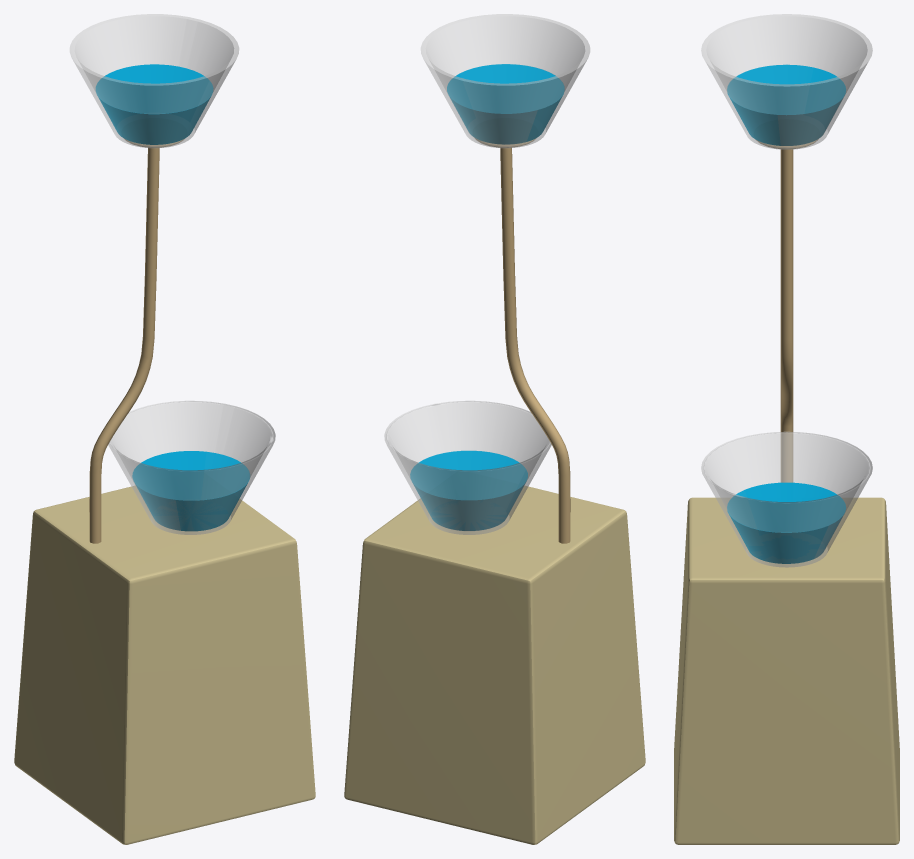
Rendered from klepsidra.fbx.
3 renders of one model, left to right at view 1: azimuth 30°, elevation 25°; view 2: azimuth 150°, elevation 25°; view 3: azimuth 270°, elevation 25°, orthographic.
Parts seen in each view (by area): view 1: klepsydra_base, klepsydra_top_container, klepsydra_bottom_container, klepsydra_top_water, klepsydra_bottom_water, klepsydra:pCylinder5; view 2: klepsydra_base, klepsydra_top_container, klepsydra_bottom_container, klepsydra_bottom_water, klepsydra_top_water, klepsydra:pCylinder5; view 3: klepsydra_base, klepsydra_top_container, klepsydra_bottom_container, klepsydra_bottom_water, klepsydra_top_water, klepsydra:pCylinder5.
Part boxes in pixels (bbox=[...]): klepsydra_base: bbox=[14, 486, 315, 844]; klepsydra_top_container: bbox=[69, 14, 239, 148]; klepsydra_bottom_container: bbox=[108, 400, 275, 534]; klepsydra_top_water: bbox=[96, 64, 213, 144]; klepsydra_bottom_water: bbox=[132, 451, 249, 531]; klepsydra:pCylinder5: bbox=[89, 138, 183, 543]; klepsydra_base: bbox=[344, 486, 645, 844]; klepsydra_top_container: bbox=[420, 14, 590, 148]; klepsydra_bottom_container: bbox=[384, 400, 551, 534]; klepsydra_bottom_water: bbox=[410, 450, 527, 530]; klepsydra_top_water: bbox=[447, 64, 564, 144]; klepsydra:pCylinder5: bbox=[475, 138, 570, 543]; klepsydra_base: bbox=[674, 497, 899, 844]; klepsydra_top_container: bbox=[701, 14, 872, 149]; klepsydra_bottom_container: bbox=[701, 431, 872, 567]; klepsydra_bottom_water: bbox=[727, 482, 845, 563]; klepsydra_top_water: bbox=[727, 64, 845, 145]; klepsydra:pCylinder5: bbox=[756, 139, 818, 482].
Bounding box in the file's own units: 38.1 × 137 × 37.58.
